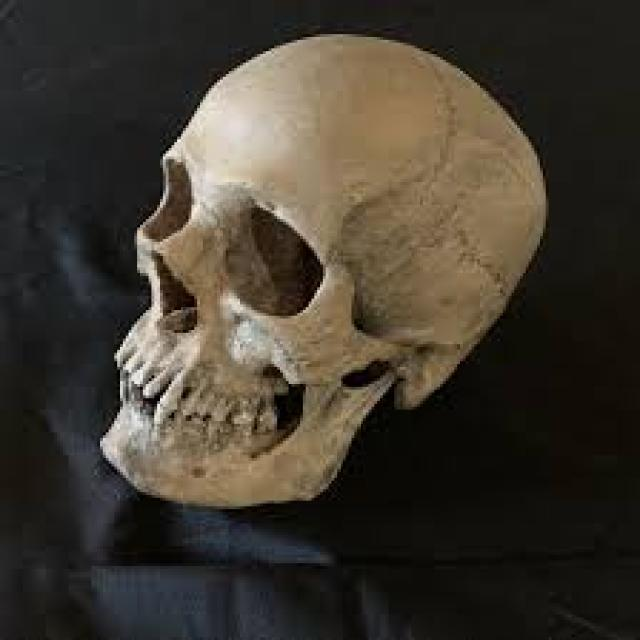skull: (110, 19, 562, 526)
